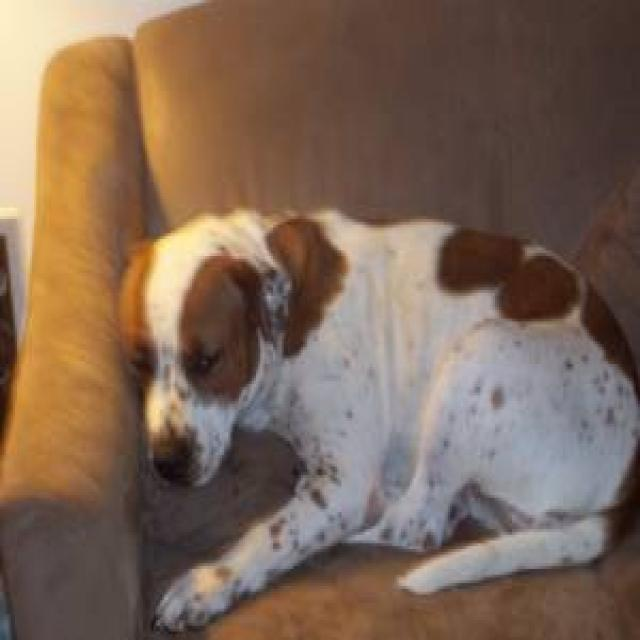dog-american_pit_bull_terrier: (111, 193, 636, 634)
